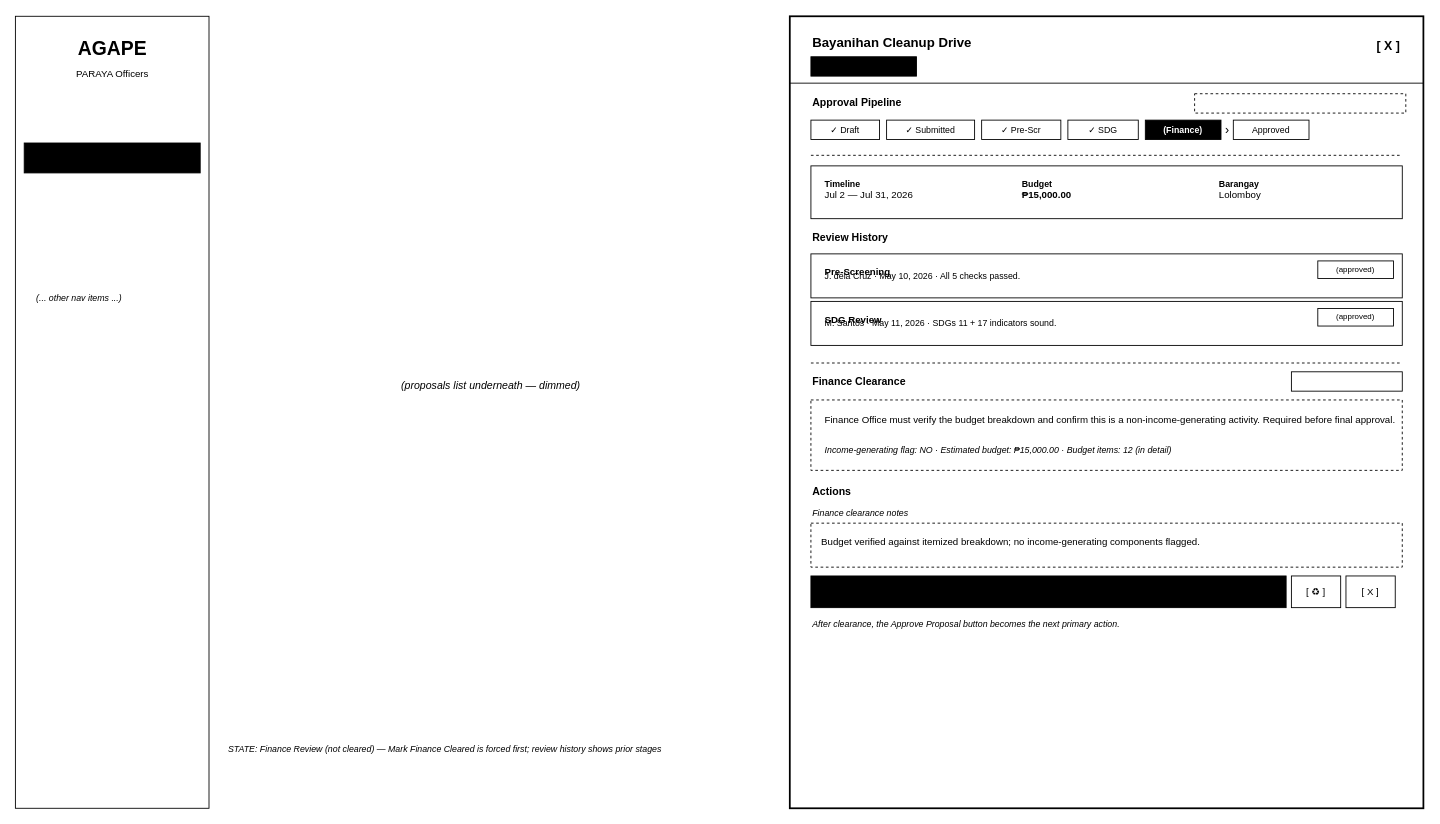
The diagram is 1440 pixels wide and 824 high, and some of its shapes have lost their labels. Here are the shapes that lost their labels. From the top down, the centre of each, then its label:
At pixel 863 66: "( finance review )".
At pixel 1300 103: "[ 🖨 Project Participation Form ]".
At pixel 111 157: "[x] Proposals".
At pixel 1346 381: "Not yet cleared".
At pixel 1048 591: "[ ✓ MARK FINANCE CLEARED ]".
